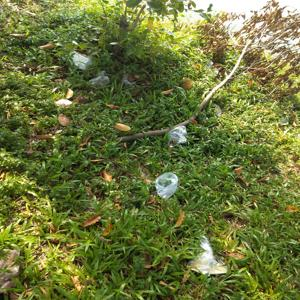plastic: (190, 235, 229, 278), (155, 115, 196, 153), (150, 164, 181, 203), (65, 46, 96, 73)
